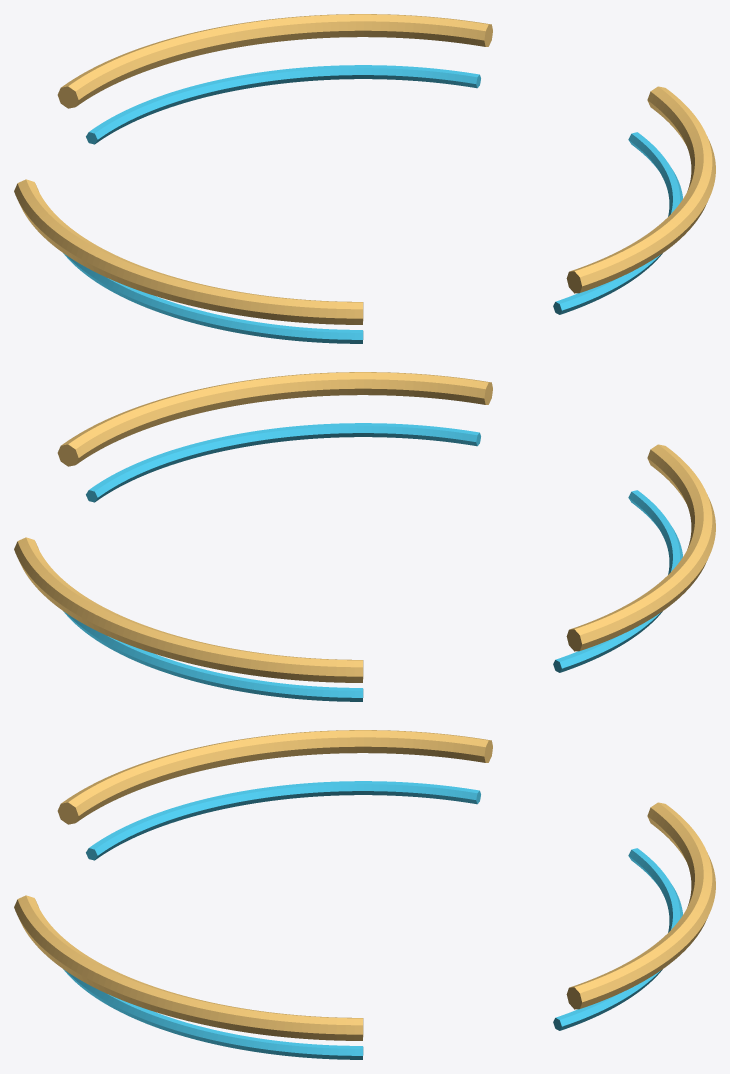
The model's file is GuardianOrbit.obj.
The picture shows the model from 3 angles, top to bottom: view 1: azimuth 30°, elevation 25°; view 2: azimuth 150°, elevation 25°; view 3: azimuth 270°, elevation 25°; orthographic projection.
Parts seen in each view (by area): view 1: GuardianOrbit; view 2: GuardianOrbit; view 3: GuardianOrbit.
Boxes of the visible parts, bbox=[...] form: GuardianOrbit: bbox=[14, 14, 715, 343]; GuardianOrbit: bbox=[14, 372, 715, 701]; GuardianOrbit: bbox=[14, 730, 715, 1059].
Bounding box in the file's own units: 0.201 × 0.0162 × 0.1999.
